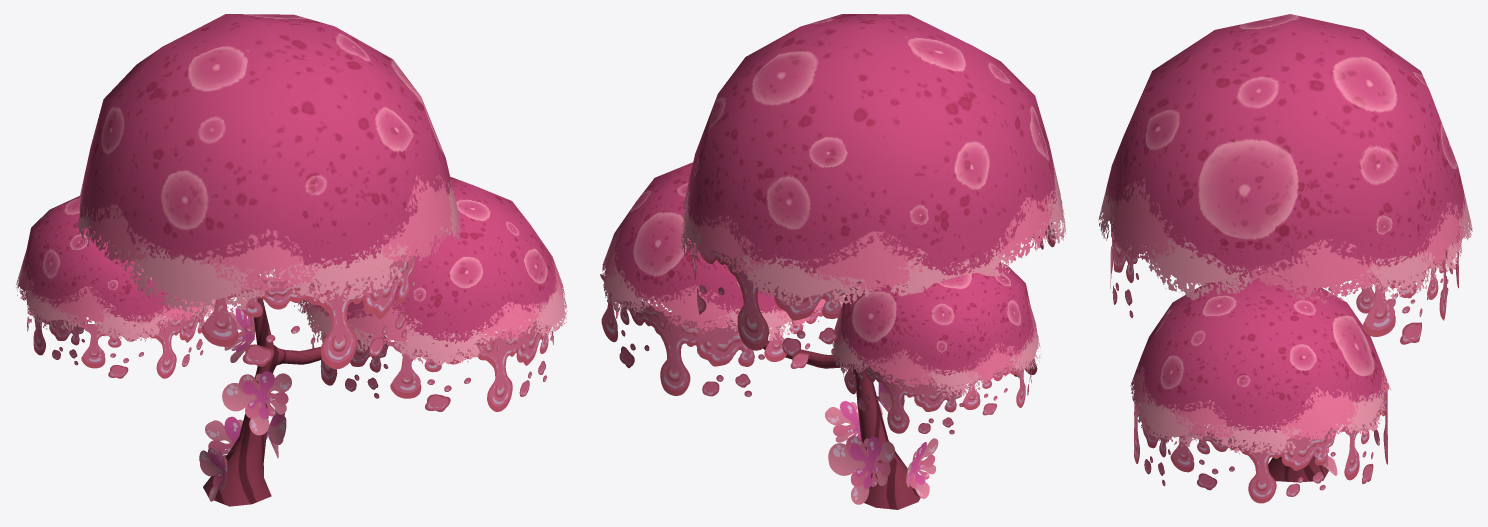
Rendered from Розовая локация дерево.fbx.
3 renders of one model, left to right at view 1: azimuth 30°, elevation 25°; view 2: azimuth 150°, elevation 25°; view 3: azimuth 270°, elevation 25°, orthographic. The views are drawn at different scales.
Parts seen in each view (by area): view 1: Vert.009; view 2: Vert.009; view 3: Vert.009.
Part boxes in pixels (left/top/right/bottom): Vert.009: left=16, top=14, right=567, bottom=506; Vert.009: left=600, top=14, right=1065, bottom=509; Vert.009: left=1098, top=14, right=1472, bottom=503.
Size of the model in its own units: 1372 by 1299 by 986.
